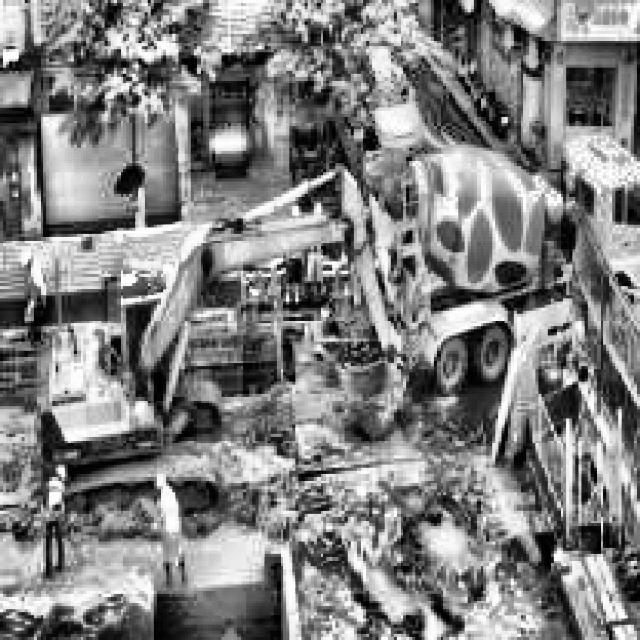excavator: (29, 166, 402, 523)
